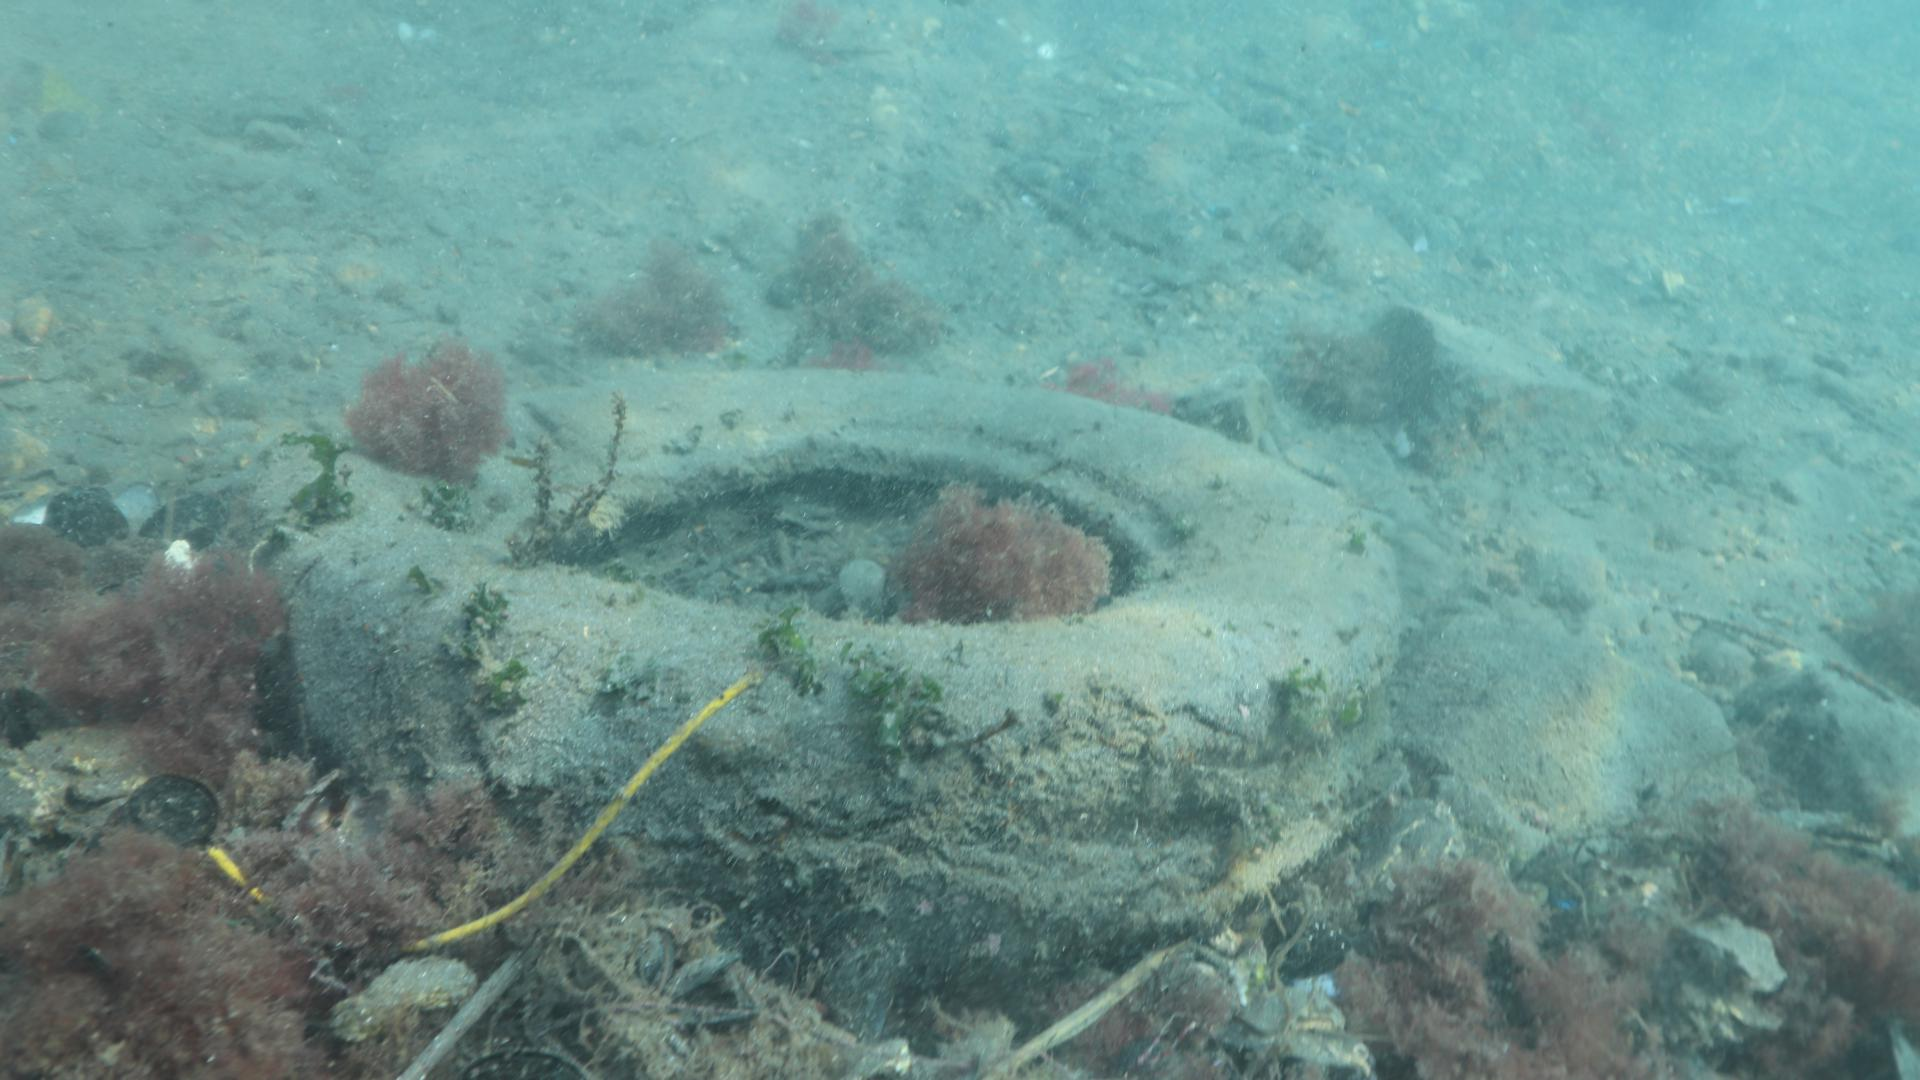tire: (248, 363, 1407, 980)
